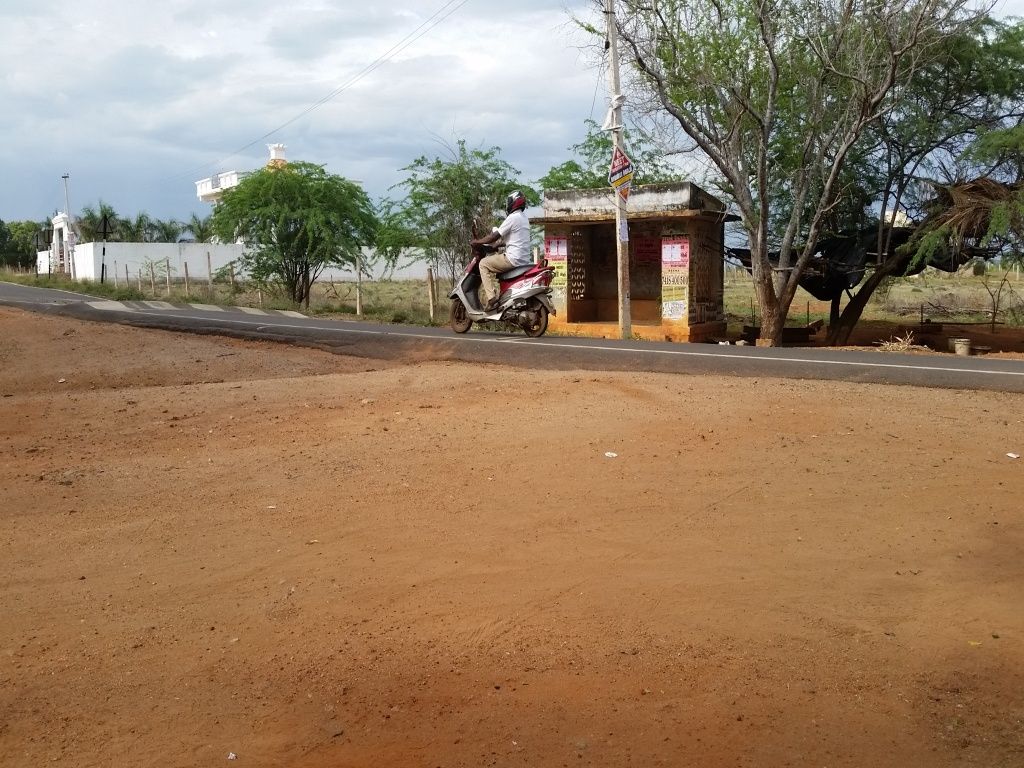biker: (437, 166, 576, 342)
helmet: (497, 179, 539, 225)
